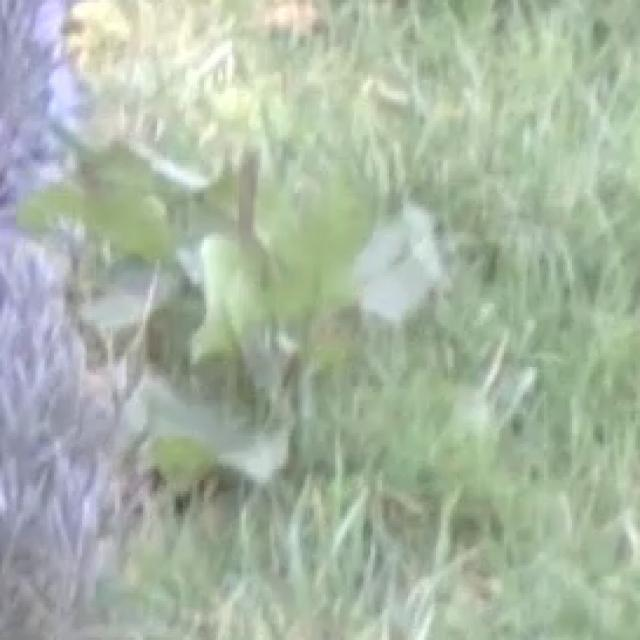organic waste: (19, 104, 512, 518)
